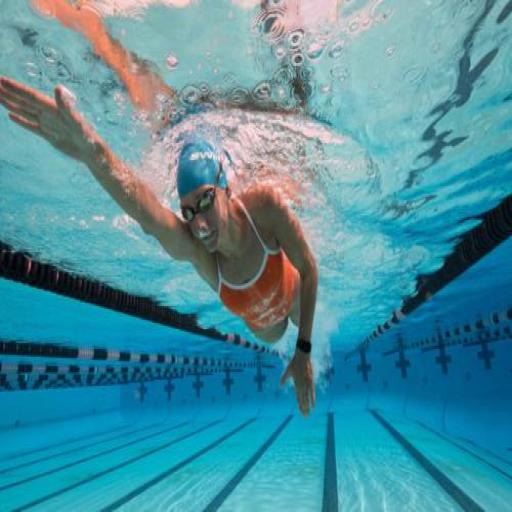swimming: (0, 70, 323, 420)
